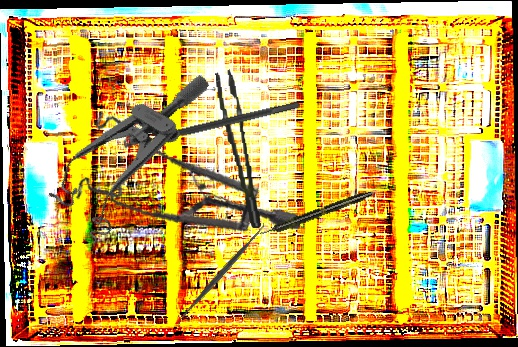Fixation Ring: (138, 92, 303, 157)
Handpiece: (258, 188, 374, 239)
Spatula Surgical: (170, 219, 272, 330)
Speculum: (61, 82, 306, 265), (37, 38, 212, 256)
Tissue Forceps: (215, 67, 261, 231)
